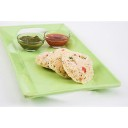idly: (61, 52, 98, 82), (51, 49, 76, 79), (34, 49, 57, 69)
